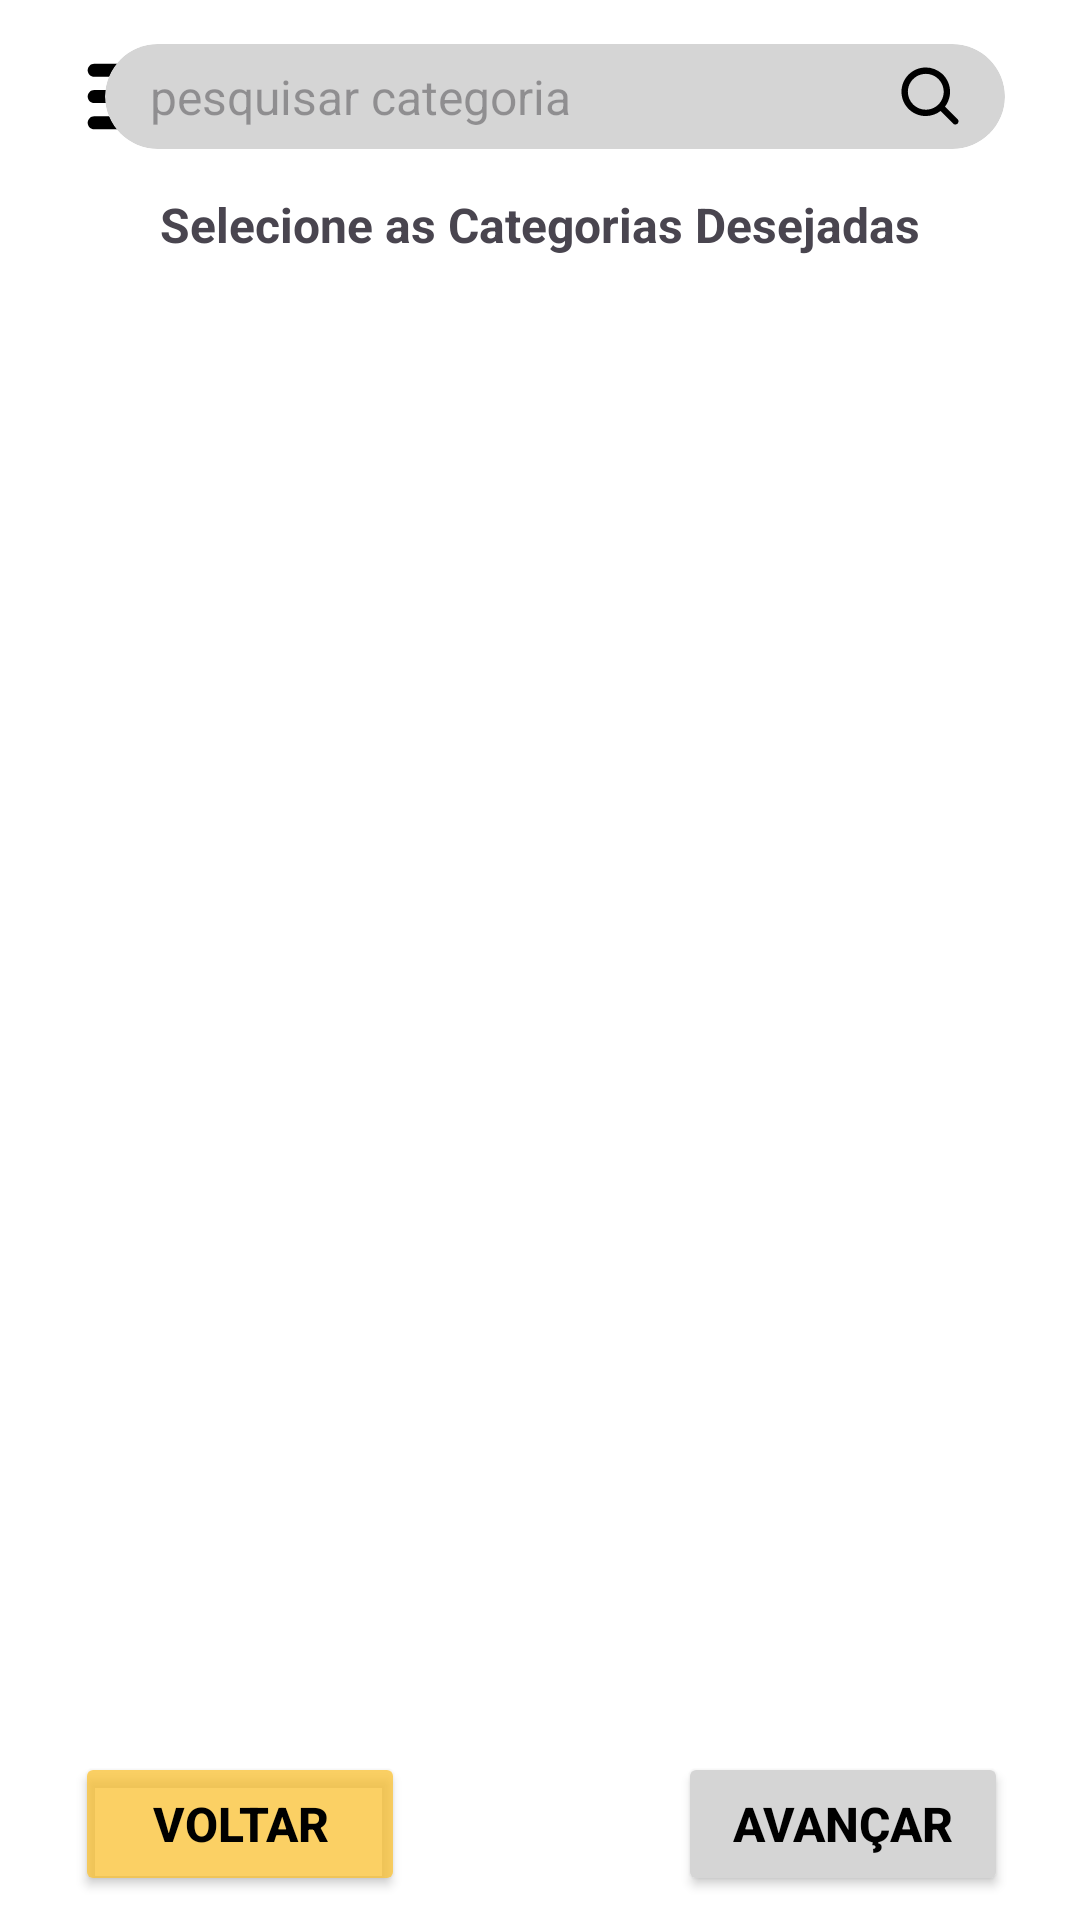

Locate icon controls on the screen. Image size 1080 × 1920, boxes as (x1, y1, x2, y2).
search: (901, 67, 959, 125)
